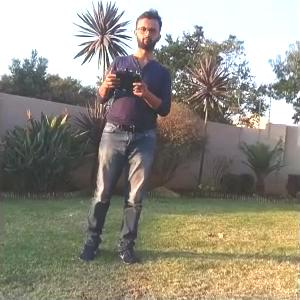follow: (71, 0, 174, 268)
